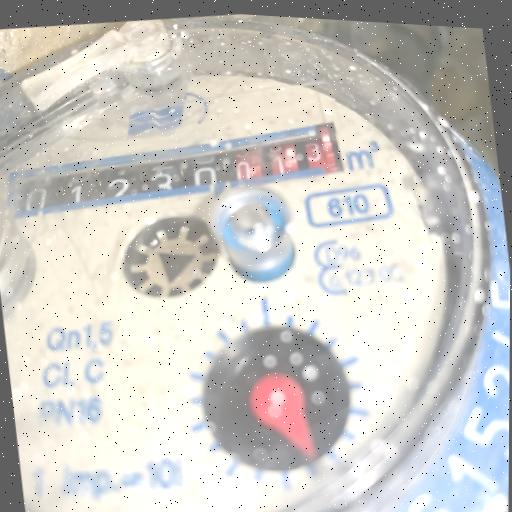0: (17, 172, 53, 219), (188, 151, 223, 190), (232, 145, 258, 181)
1: (59, 165, 94, 211), (267, 139, 293, 176)
2: (101, 160, 137, 204)
3: (142, 158, 180, 196), (301, 133, 328, 170)
border_water_meter_number: (0, 100, 347, 241)
